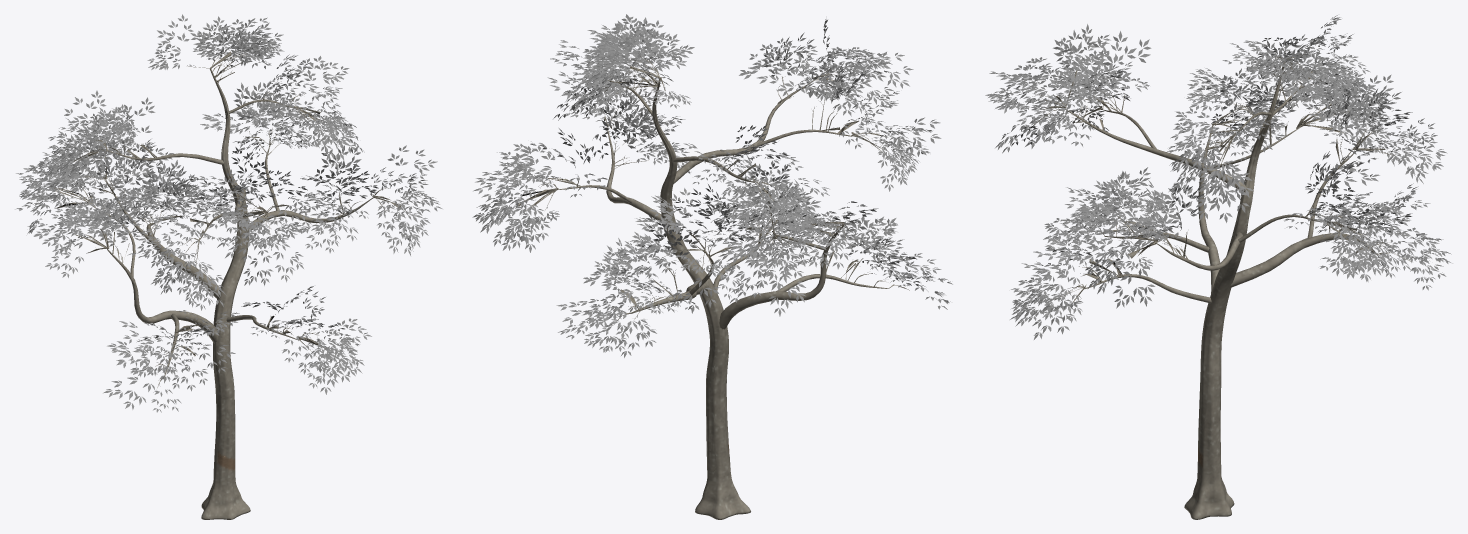
The model's file is RT_Mature_C_LOD2.glb.
3 renders of one model, left to right at view 1: azimuth 30°, elevation 25°; view 2: azimuth 150°, elevation 25°; view 3: azimuth 270°, elevation 25°, orthographic. The views are drawn at different scales.
Parts seen in each view (by area): view 1: RT_Mature_C_LOD2_Foliage, RT_Mature_C_LOD2_Body; view 2: RT_Mature_C_LOD2_Foliage, RT_Mature_C_LOD2_Body; view 3: RT_Mature_C_LOD2_Foliage, RT_Mature_C_LOD2_Body.
Part boxes in pixels (x1,y1,x2,y2): RT_Mature_C_LOD2_Foliage: [15, 14, 442, 412]; RT_Mature_C_LOD2_Body: [54, 51, 400, 519]; RT_Mature_C_LOD2_Foliage: [472, 14, 952, 357]; RT_Mature_C_LOD2_Body: [518, 56, 909, 519]; RT_Mature_C_LOD2_Foliage: [985, 15, 1452, 339]; RT_Mature_C_LOD2_Body: [1031, 52, 1410, 519].
Bounding box in the file's own units: 11.43 × 13.77 × 11.73.
Materials: 2 (1 with a texture image).
